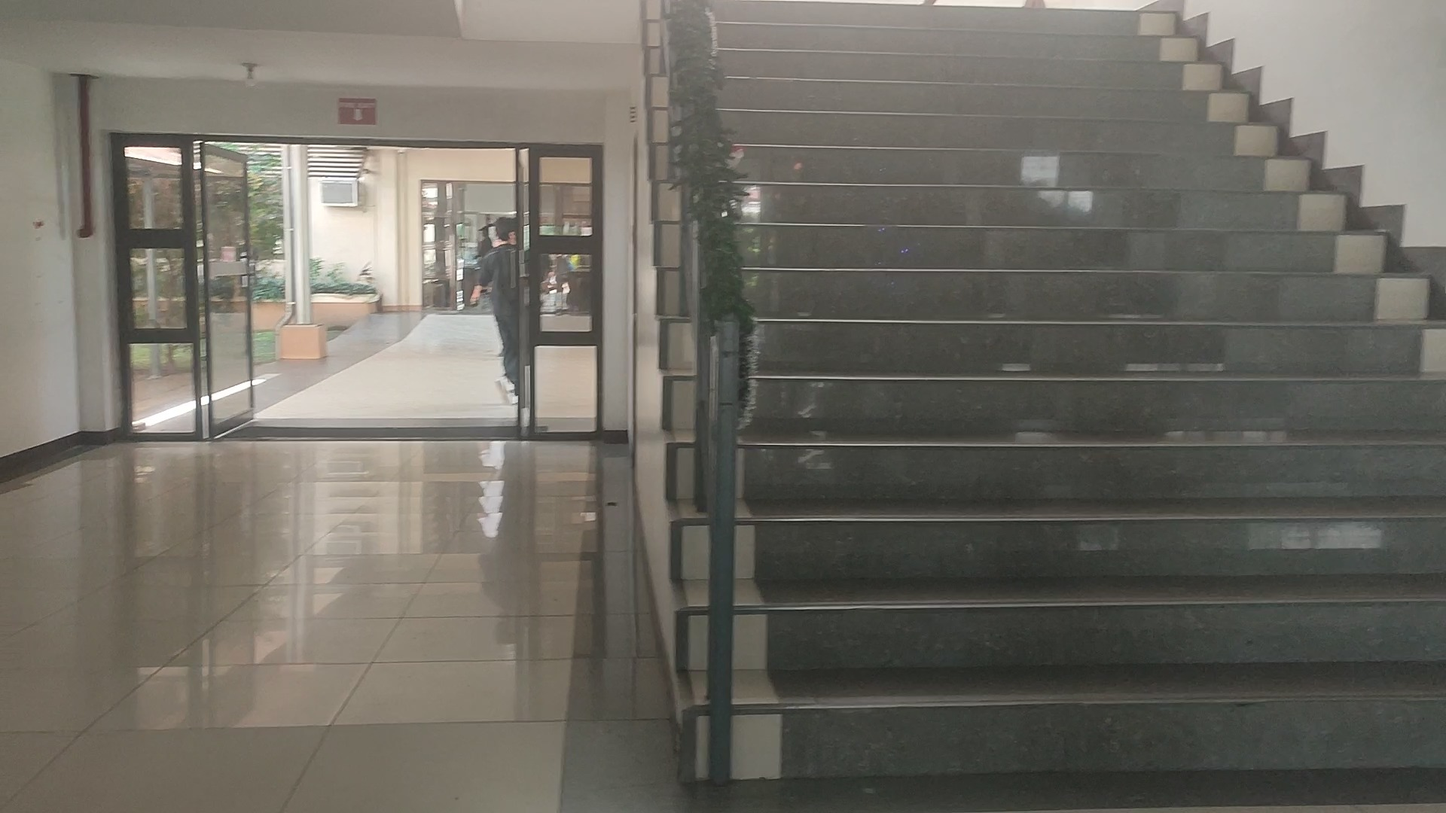Staircase: (668, 0, 1446, 802)
